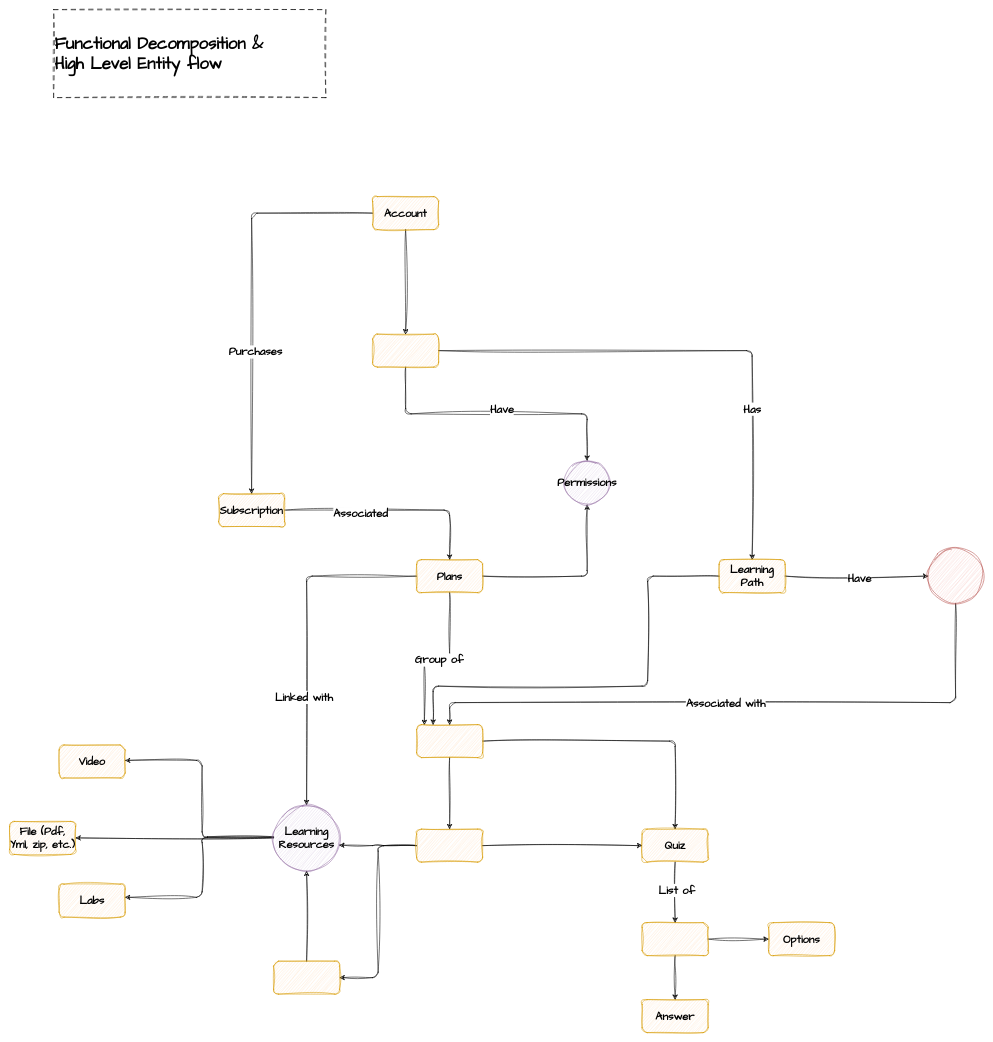
This 993x1042 diagram has some shape labels left out. Here are the shapes that lost their labels. From the top down, the centre of each, then its label:
point (405, 350): Users
point (955, 576): Progress
point (449, 741): Courses
point (449, 845): Lessions
point (675, 939): Questions
point (306, 977): Topics
